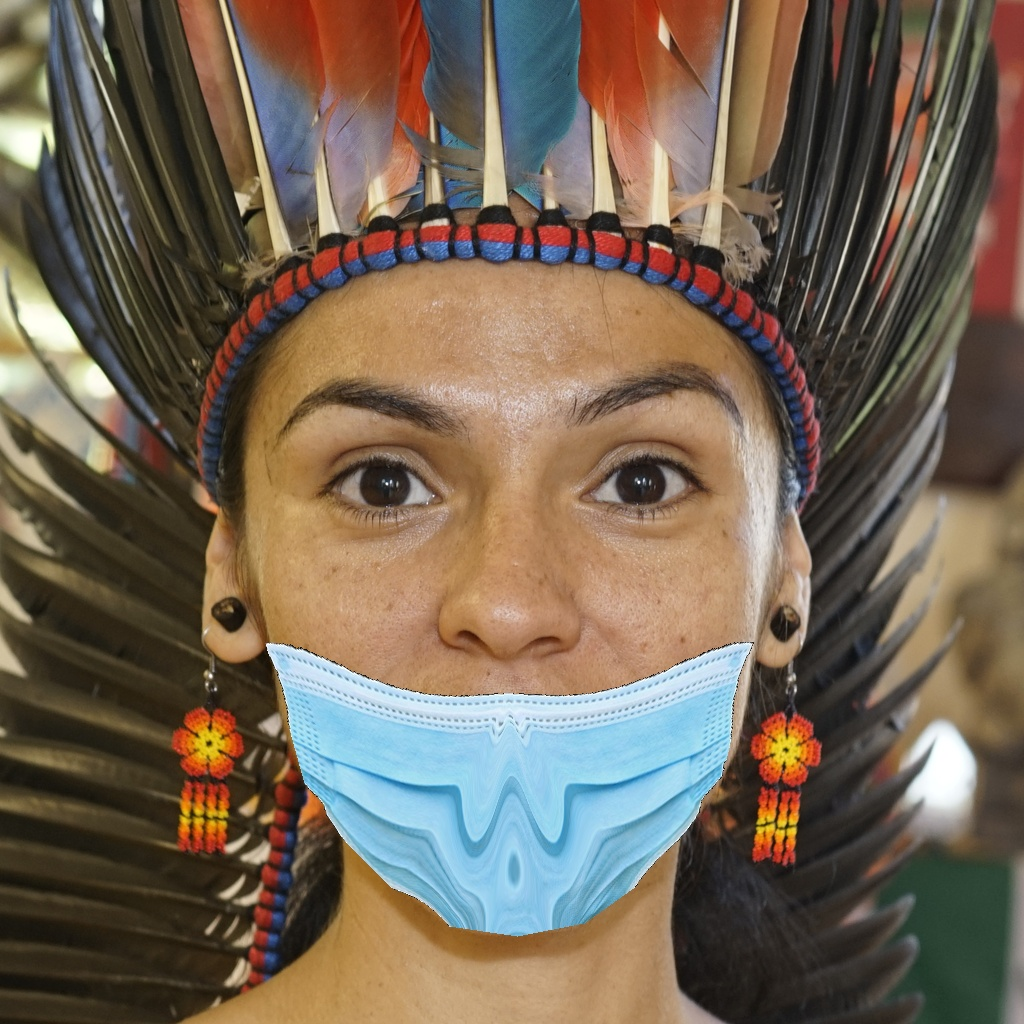mascarilla_mal_puesta: (247, 385, 772, 973)
